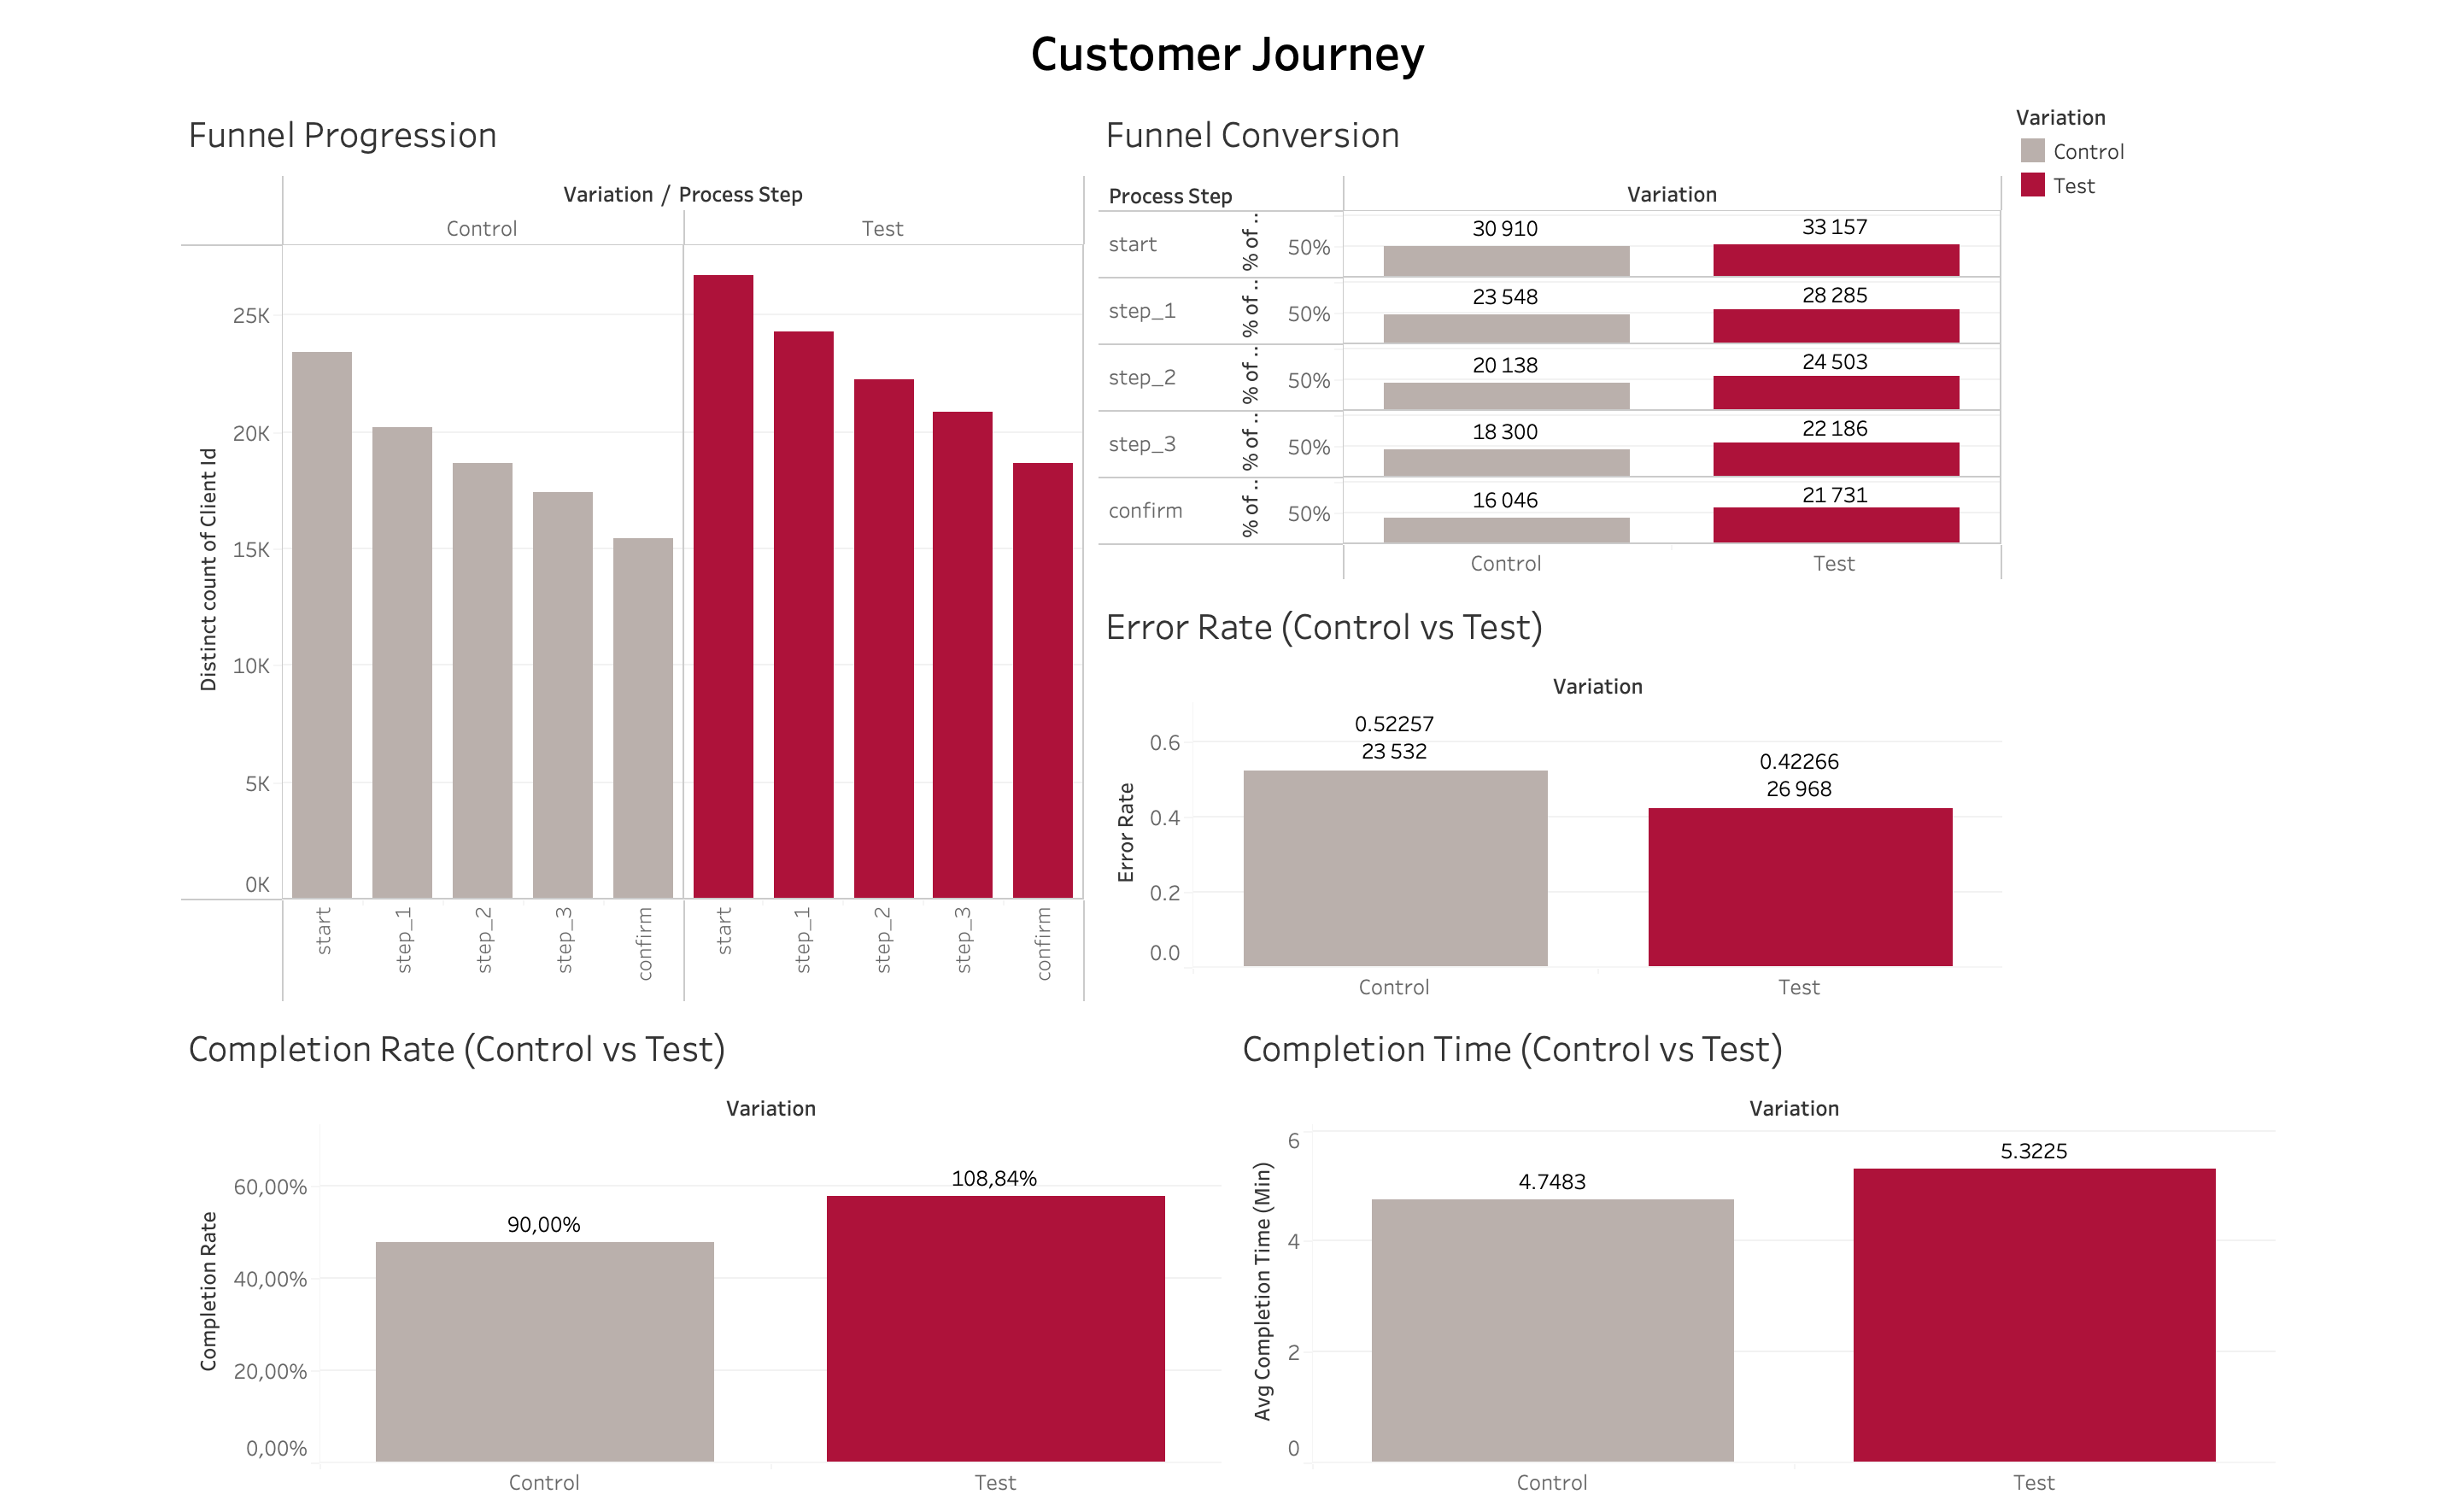

Layout of this report page (visuals, bound fields, positions):
{"tool":"tableau","page":{"name":"Customer Journey","canvas":[1000,1000],"units":"permille","ordinal":1},"visuals":[{"type":"text","box":[6.7,10.6,986.7,58.4]},{"type":"worksheet","title":"Funnel Progression","mark":"Automatic","rows":["client_id","process_step"],"cols":["process_step"],"box":[6.7,69,426.7,596.7]},{"type":"worksheet","title":"Funnel Conversion ","mark":"Automatic","rows":["process_step","journey"],"cols":["variation"],"box":[433.4,69,426.8,321.4]},{"type":"legend","title":"Funnel Progression","param":"[federated.112pgzj03jd7hx187qudo004a832].[none:variation:nk]","box":[860.1,69,133.2,87.3]},{"type":"worksheet","title":"Error Rate (Control vs Test)","mark":"Bar","rows":["Calculation_0865285661532171"],"cols":["variation"],"box":[433.4,390.4,426.8,275.3]},{"type":"worksheet","title":"Completion Rate (Control vs Test)","mark":"Automatic","rows":["Calculation_0865285661650956"],"cols":["variation"],"box":[6.7,665.7,493.3,323.7]},{"type":"worksheet","title":"Completion Time (Control vs Test)","mark":"Automatic","rows":["Calculation_0865285667172366"],"cols":["variation"],"box":[500,665.7,493.3,323.7]}]}

Visuals, with their boxes on the dashboard's canvas, which has no fixed pixel size, in thousandths of its width and height (x1, y1, x2, y2). These are canvas units, not pixel positions in the 2455x1512 screenshot, which may show the page scaled, cropped or inside an application window:
text: box=[7, 11, 993, 69]
"Funnel Progression" worksheet: box=[7, 69, 433, 666]
"Funnel Conversion " worksheet: box=[433, 69, 860, 390]
"Funnel Progression" legend: box=[860, 69, 993, 156]
"Error Rate (Control vs Test)" worksheet (Bar marks): box=[433, 390, 860, 666]
"Completion Rate (Control vs Test)" worksheet: box=[7, 666, 500, 989]
"Completion Time (Control vs Test)" worksheet: box=[500, 666, 993, 989]
